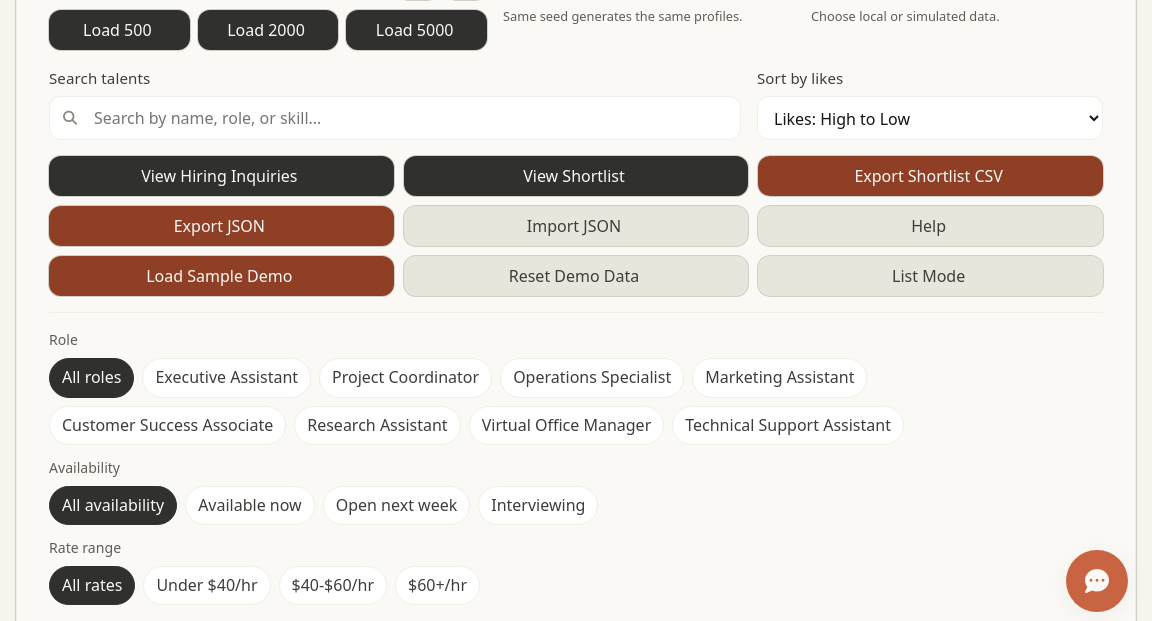
Test: App integration › runs one-click demo scenario preset
(page scrolled)
Click the button "Load Sample Demo": (221, 276) [49,256,394,296]
(page scrolled)
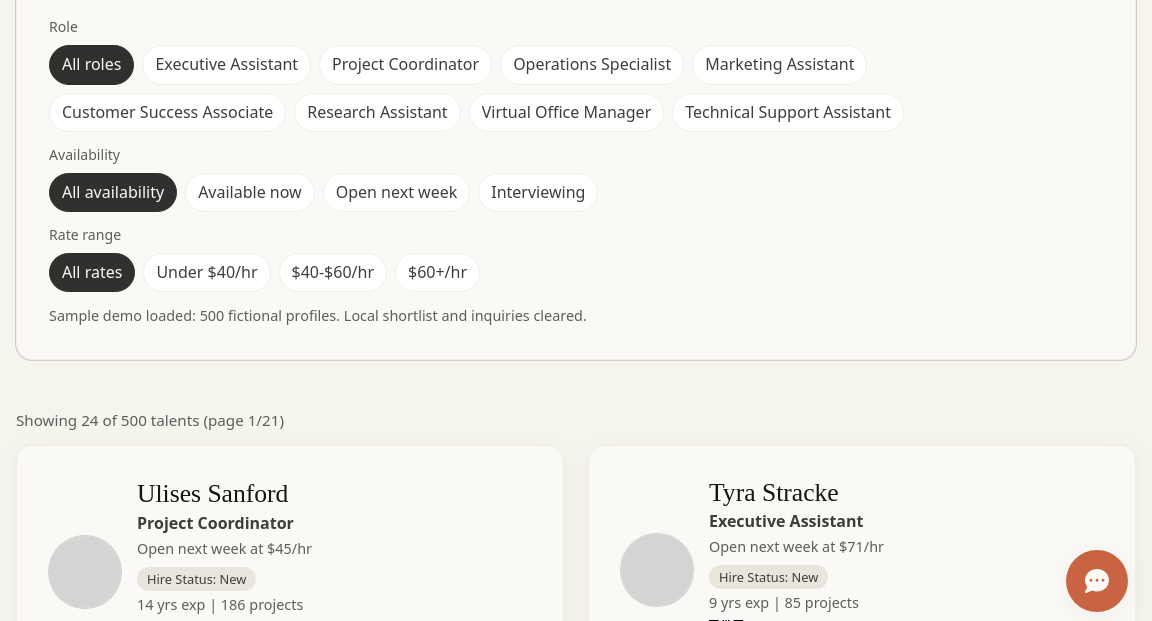
Check: the text "Sample demo loaded" is shown, box [49,306,587,325]
